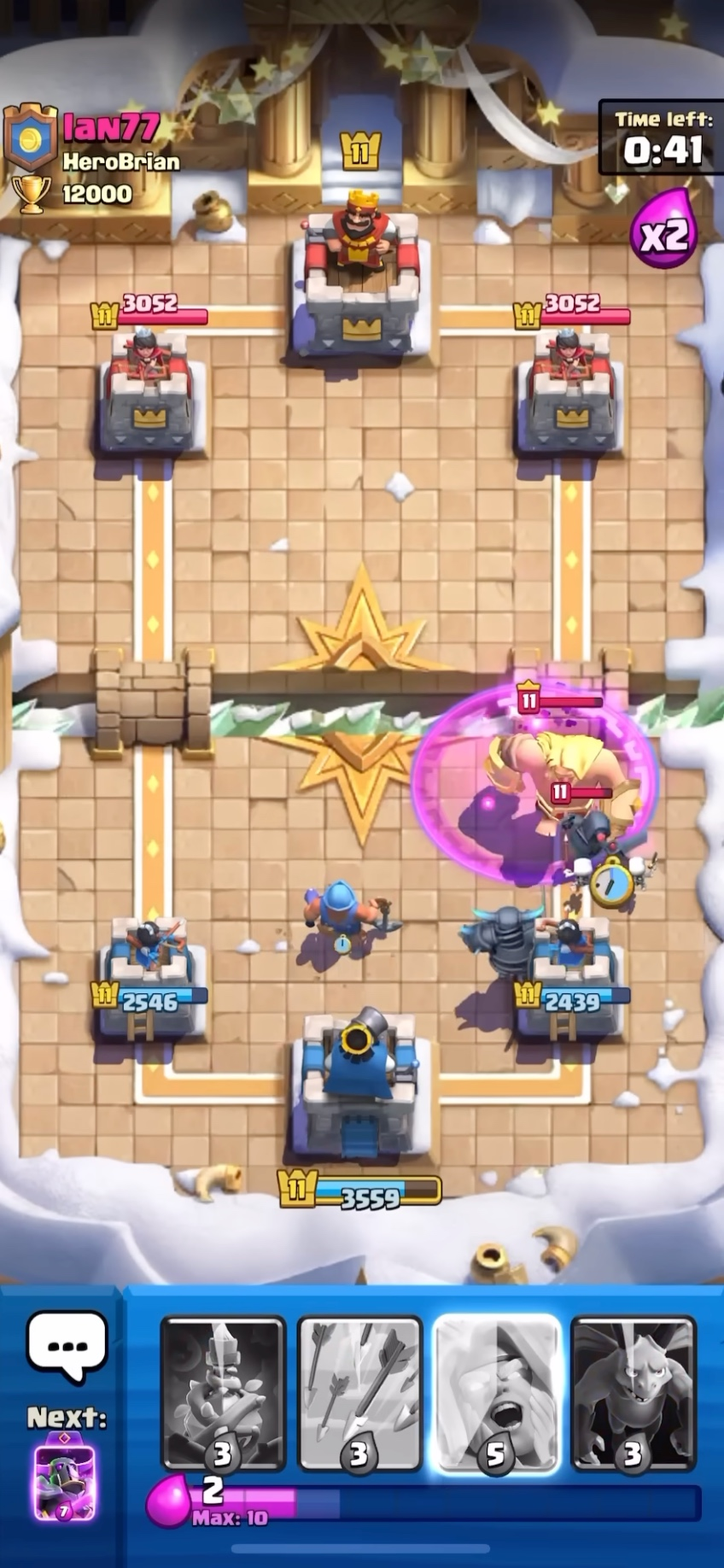hero-giant: (480, 677, 655, 834)
mini-pekka: (544, 781, 625, 871)
